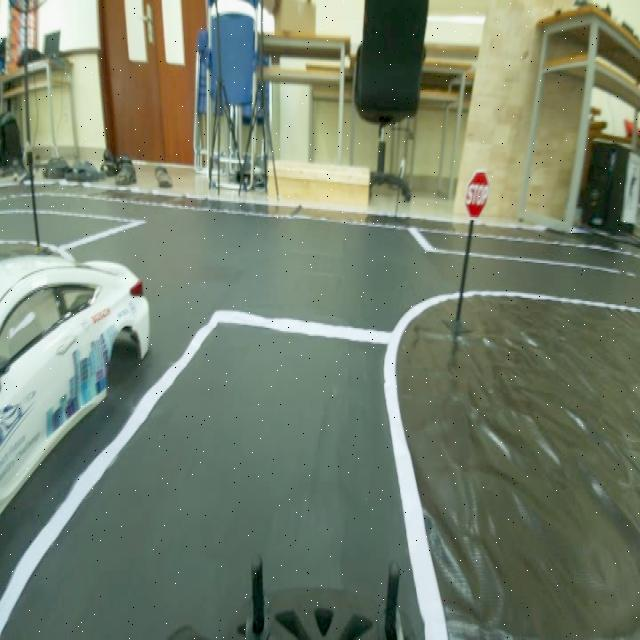car: (3, 238, 152, 440)
stop: (462, 166, 494, 224)
